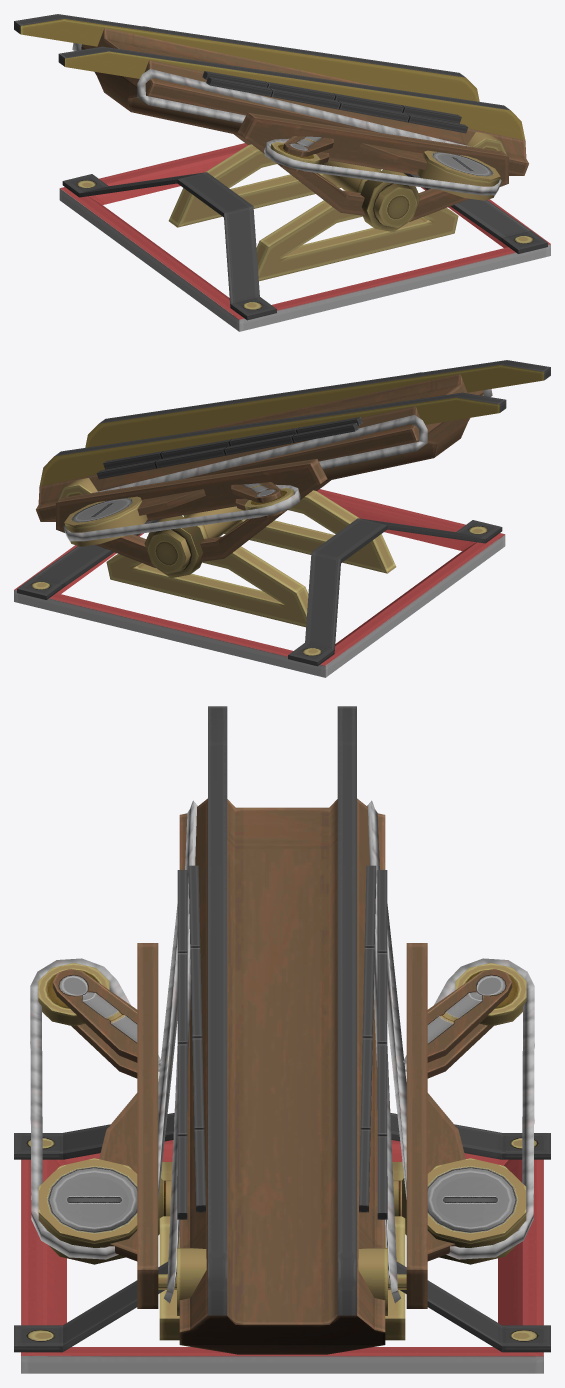
Rendered from trap_196_cnnon.fbx.
3 views of the same model, one above another, from view 1: azimuth 30°, elevation 25°; view 2: azimuth 150°, elevation 25°; view 3: azimuth 270°, elevation 25° (orthographic). The views are drawn at different scales.
Visible parts, largest first — view 1: trap_196_cnnon; view 2: trap_196_cnnon; view 3: trap_196_cnnon.
Part boxes in pixels (x1,y1,x2,y2): trap_196_cnnon: (14,14,550,331); trap_196_cnnon: (14,360,550,677); trap_196_cnnon: (14,706,550,1373).
Bounding box in the file's own units: 1.41 × 0.7404 × 0.9762.
1 material, 1 textured.
